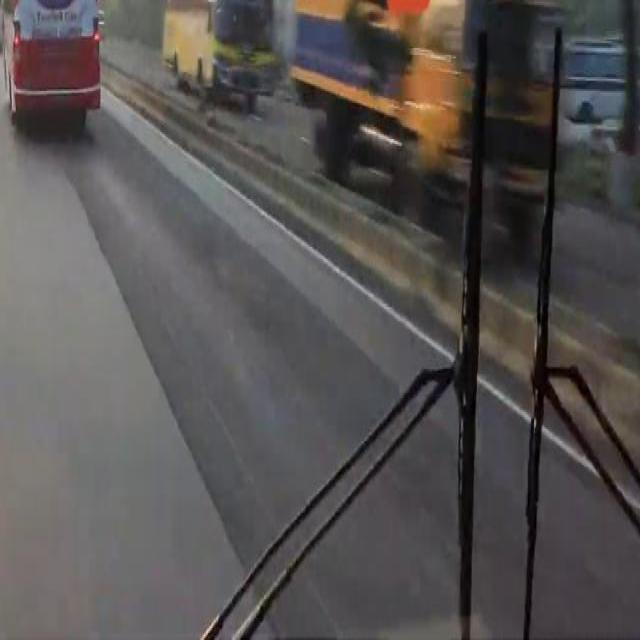bus: (160, 5, 278, 108), (3, 4, 101, 126), (554, 44, 636, 124)
truck: (290, 3, 552, 250)
